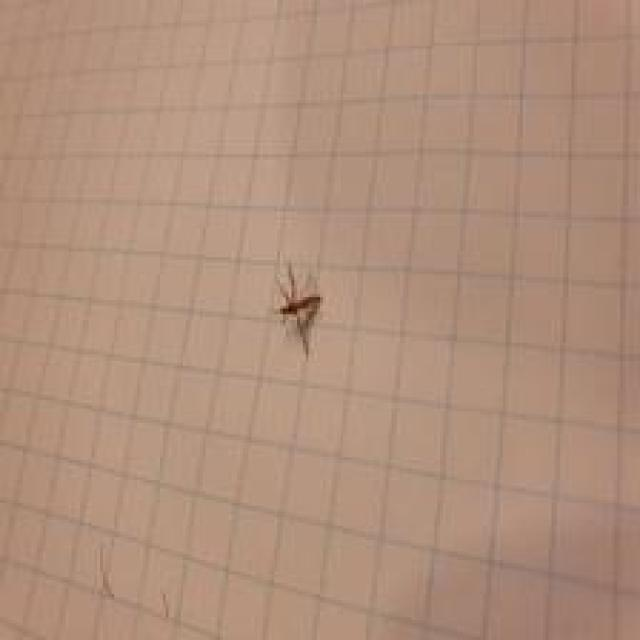Culex: (273, 260, 324, 357)
